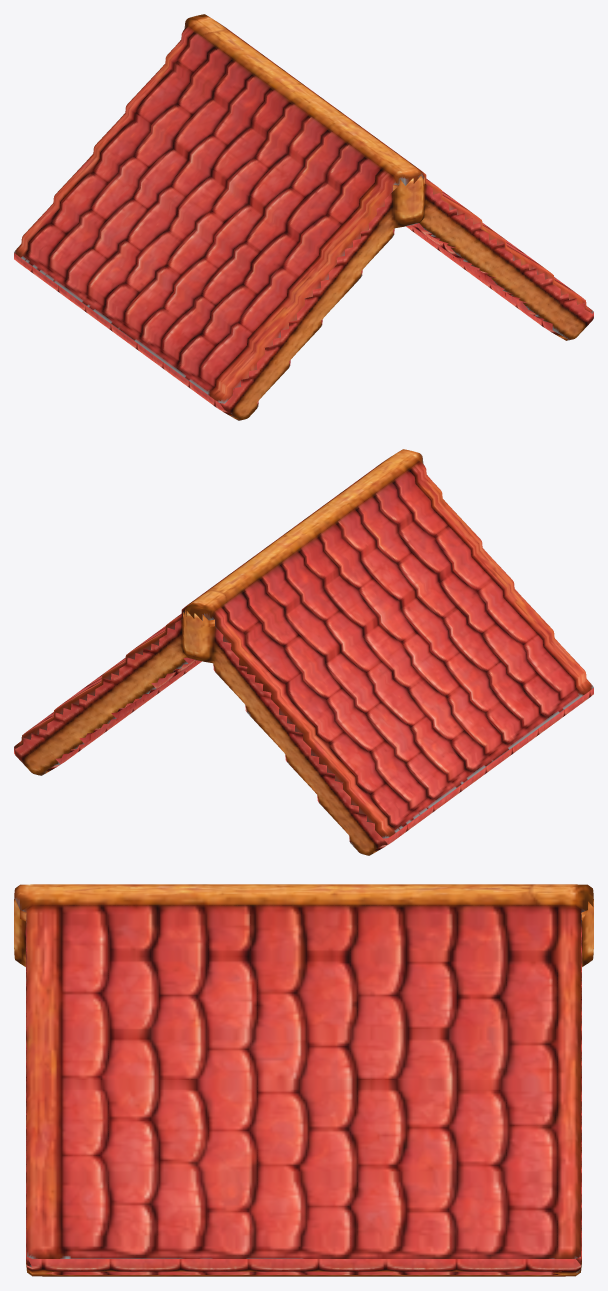
File: house-roof.glb
3 renders of one model, top to bottom at view 1: azimuth 30°, elevation 25°; view 2: azimuth 150°, elevation 25°; view 3: azimuth 270°, elevation 25°, orthographic. The views are drawn at different scales.
Bounding box in the file's own units: 1.86 × 0.9989 × 1.88.
Materials: 1 (1 with a texture image).
